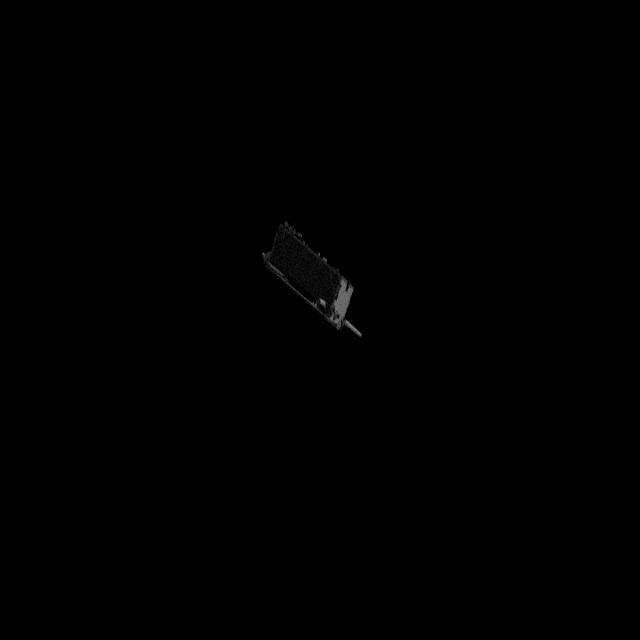medium_debris: (244, 222, 370, 348)
